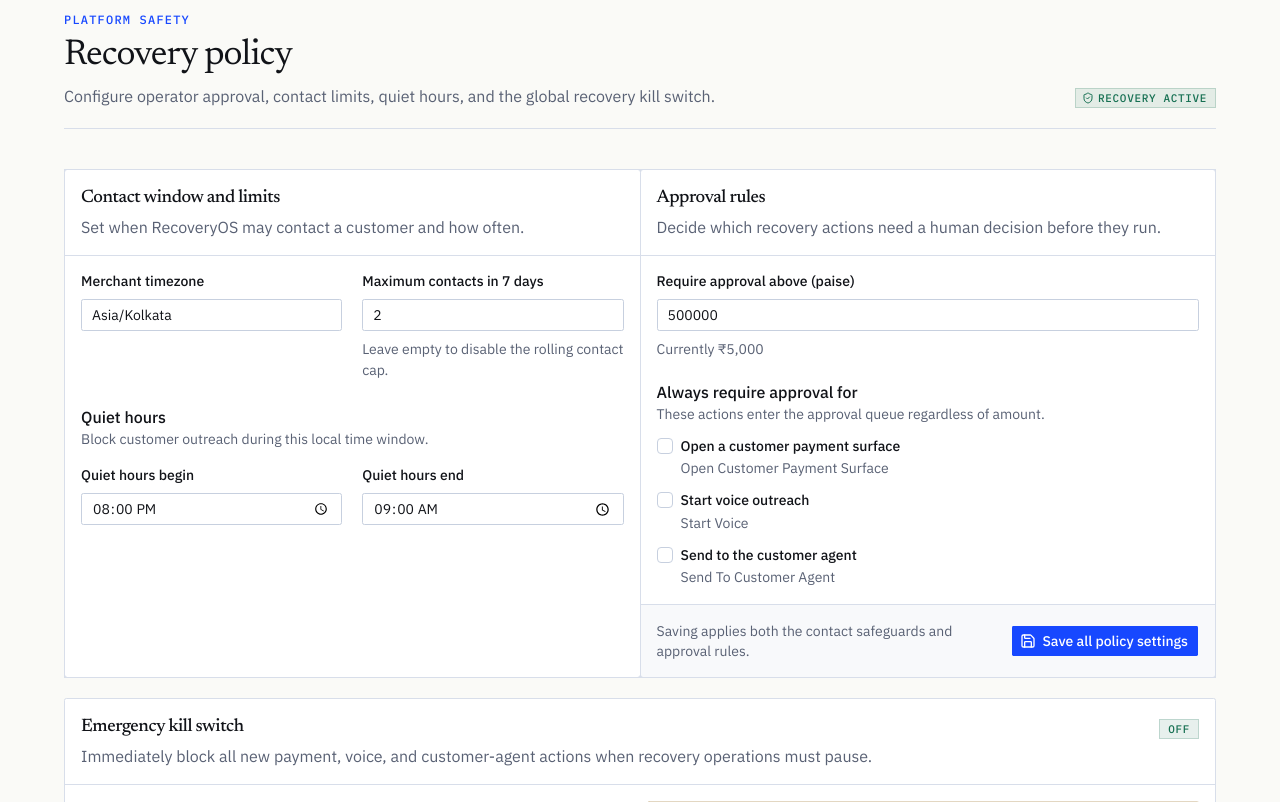
Test: PolicySettingsPanel › preserves active settings and exposes an API error
Click the button with aria-label "Save policy".
click(1105, 641)  # box [1012,625,1199,657]
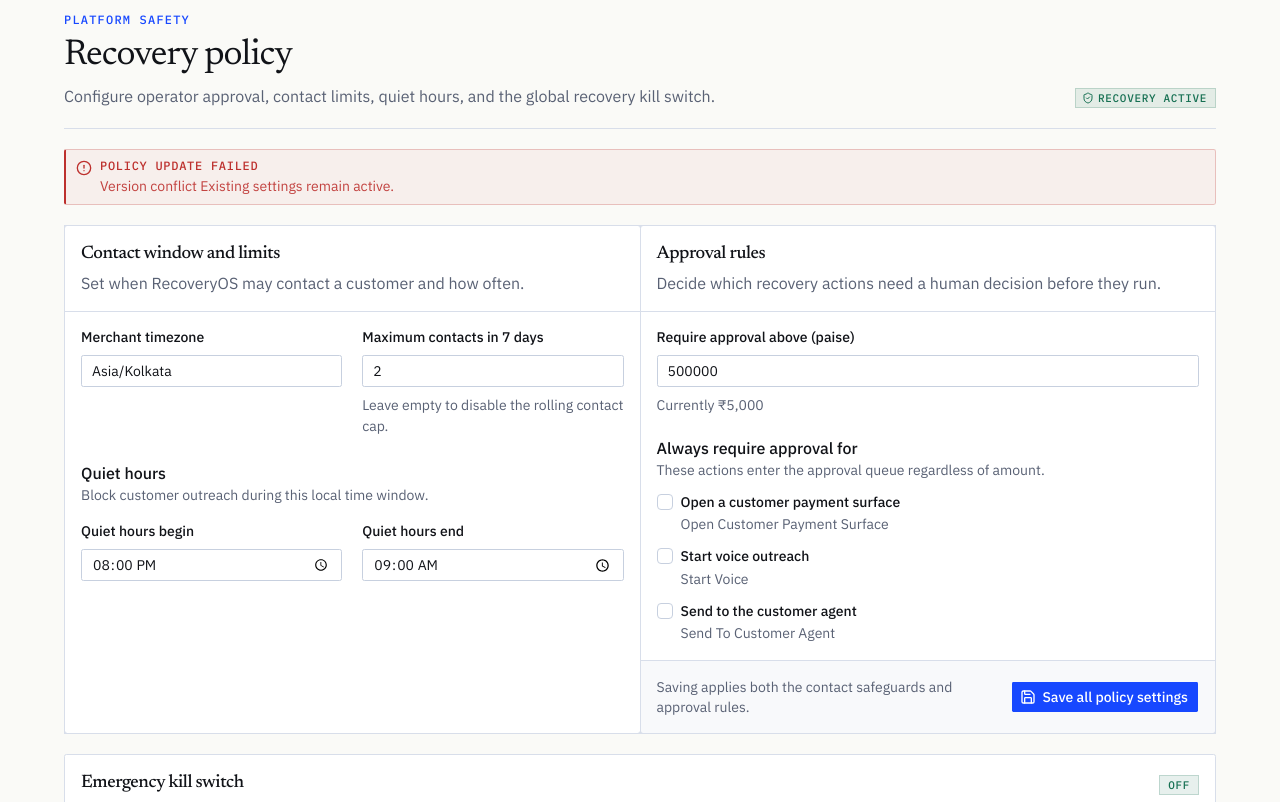
Expected: the text "Recovery active" is shown, [1075,88,1216,108]
Now the text "Version conflict Existing settings remain active." is shown, box [100,177,394,195]
